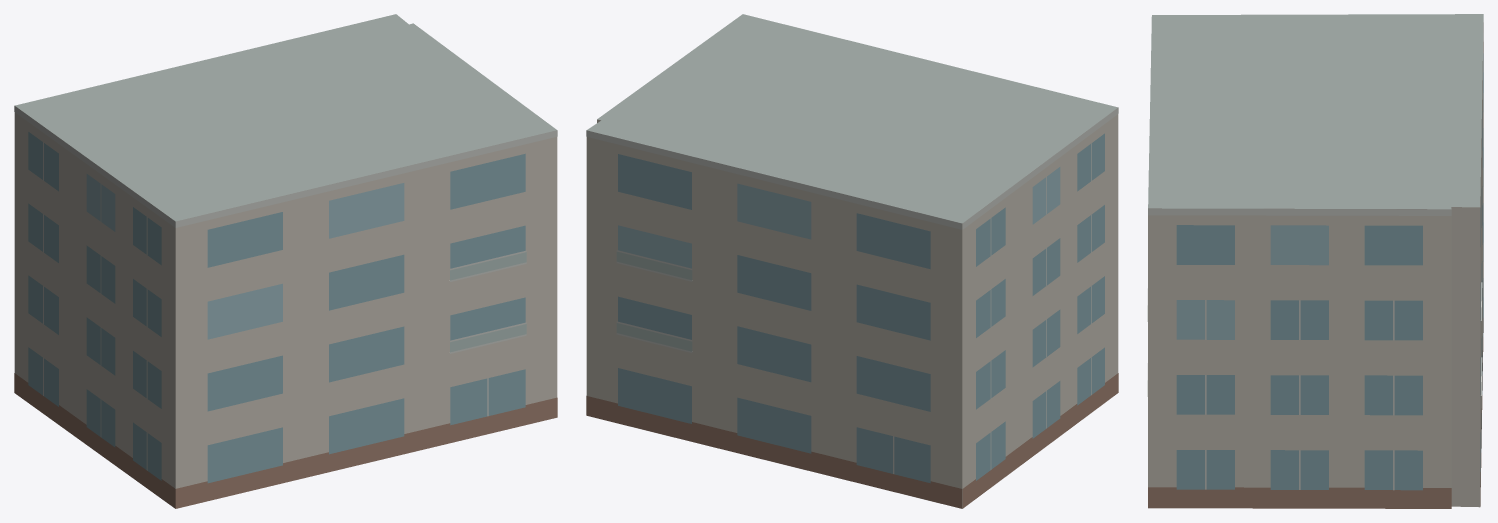
Rendered from survey-upis-32834327.glb.
3 renders of one model, left to right at view 1: azimuth 30°, elevation 25°; view 2: azimuth 150°, elevation 25°; view 3: azimuth 270°, elevation 25°, orthographic. The views are drawn at different scales.
Parts seen in each view (by area): view 1: survey-upis-32834327.tmp; view 2: survey-upis-32834327.tmp; view 3: survey-upis-32834327.tmp.
Part boxes in pixels (x1,y1,x2,y2): survey-upis-32834327.tmp: (14,14,557,508); survey-upis-32834327.tmp: (586,14,1118,508); survey-upis-32834327.tmp: (1147,14,1483,508).
Bounding box in the file's own units: 15.09 × 10.8 × 11.
